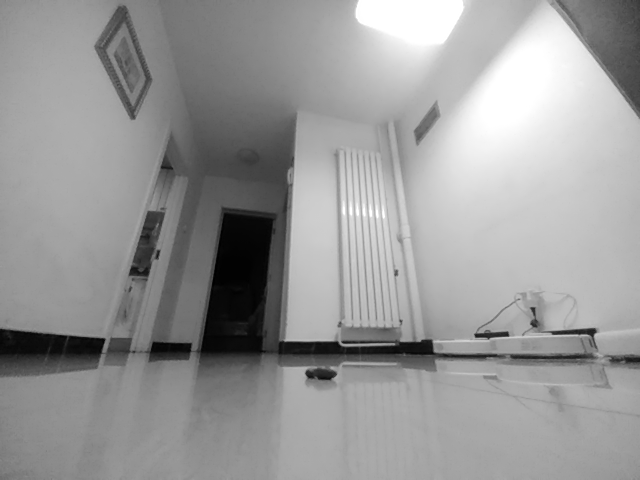pet feces: (306, 368, 338, 381)
